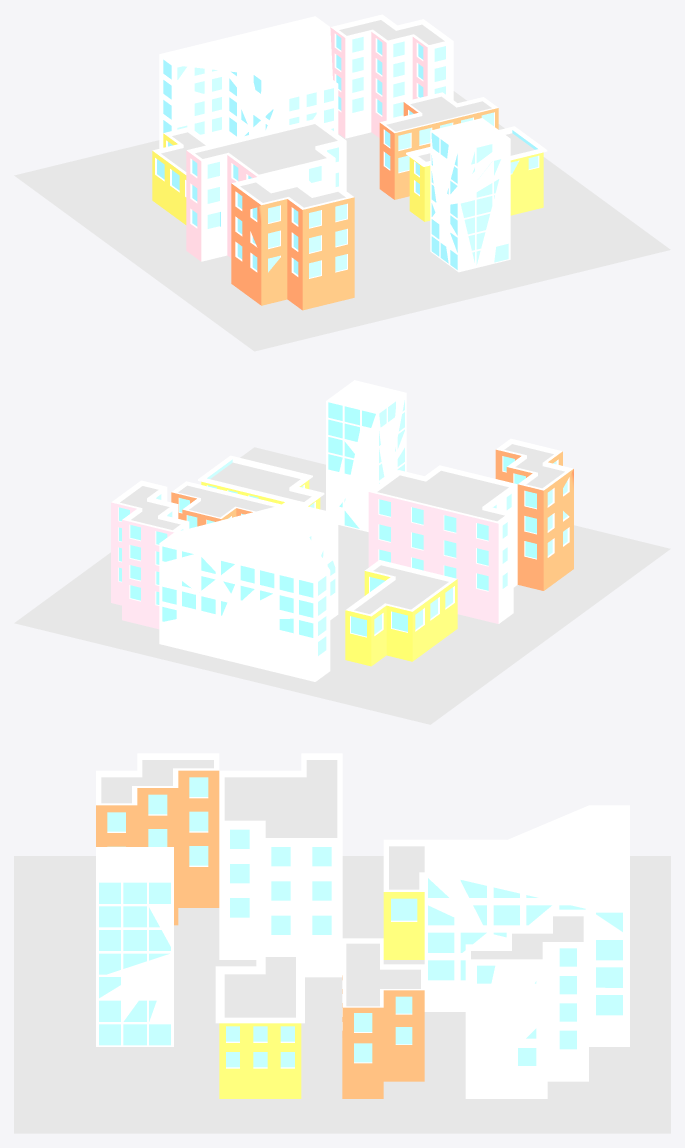
The model's file is LowPolyCITY.gltf.
3 views of the same model, one above another, from view 1: azimuth 30°, elevation 25°; view 2: azimuth 150°, elevation 25°; view 3: azimuth 270°, elevation 25° (orthographic). The views are drawn at different scales.
Visible parts, largest first — view 1: City; view 2: City; view 3: City.
Part boxes in pixels (x1,y1,x2,y2): City: (14, 14, 670, 351); City: (14, 380, 670, 724); City: (14, 753, 670, 1133).
Size of the model in its own units: 420 by 116 by 420.
